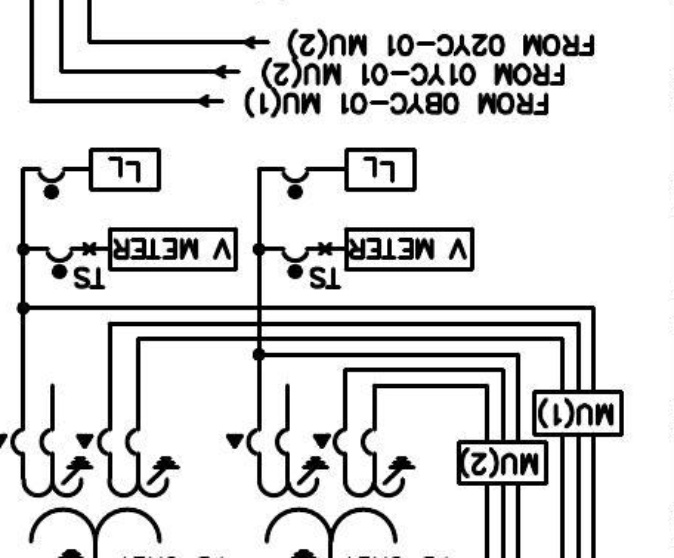LL: (343, 147, 418, 193), (88, 147, 162, 193)
MU: (531, 389, 625, 438), (455, 439, 550, 487)
v_m_digital: (343, 226, 476, 273), (106, 226, 239, 273)
